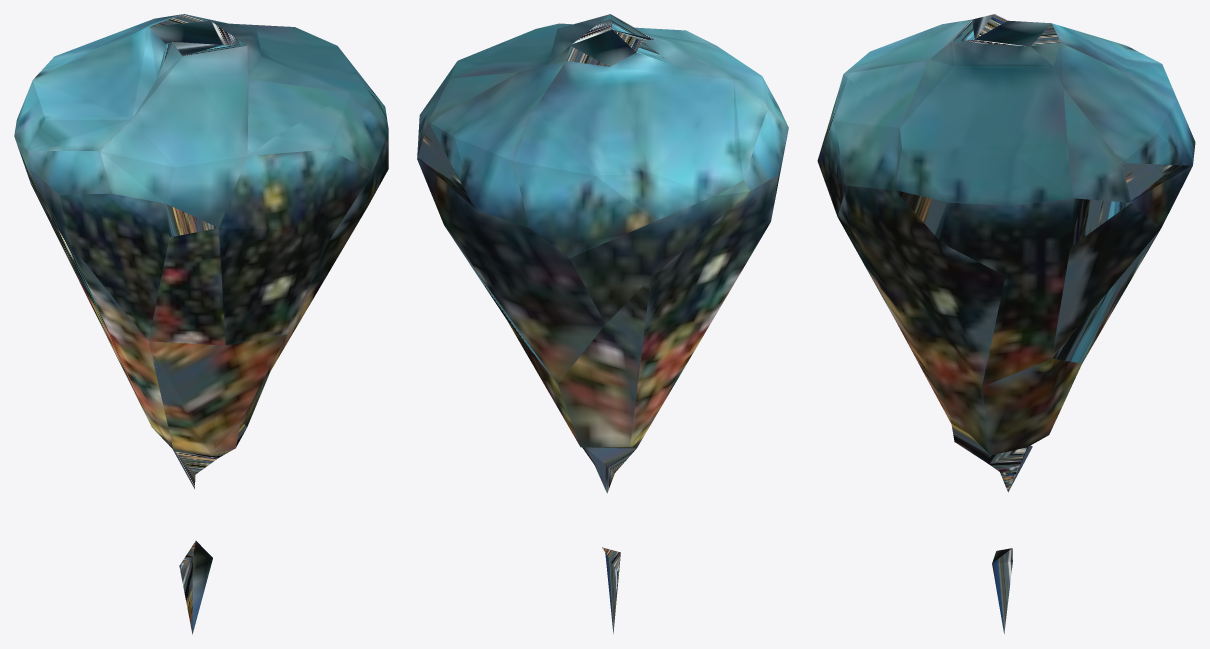
File: den-long-hoi-an.glb
3 views of the same model, side by side, from view 1: azimuth 30°, elevation 25°; view 2: azimuth 150°, elevation 25°; view 3: azimuth 270°, elevation 25° (orthographic). The views are drawn at different scales.
Parts seen in each view (by area): view 1: mesh_main_0; view 2: mesh_main_0; view 3: mesh_main_0.
Part boxes in pixels (left/top/right/bottom): mesh_main_0: left=14, top=14, right=388, bottom=634; mesh_main_0: left=417, top=14, right=788, bottom=633; mesh_main_0: left=817, top=14, right=1195, bottom=633.
Bounding box in the file's own units: 0.4851 × 0.8683 × 0.4886.
Materials: 1 (1 with a texture image).
